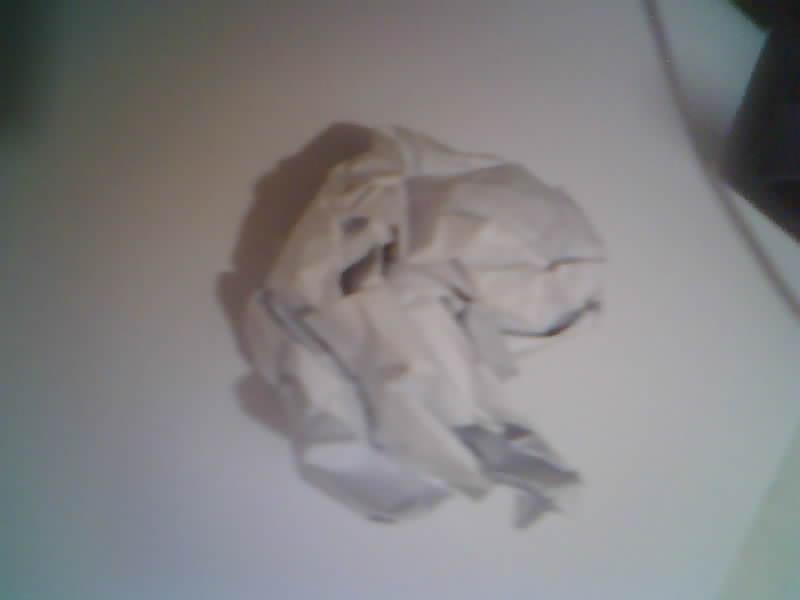biodegradable: (245, 129, 606, 527)
